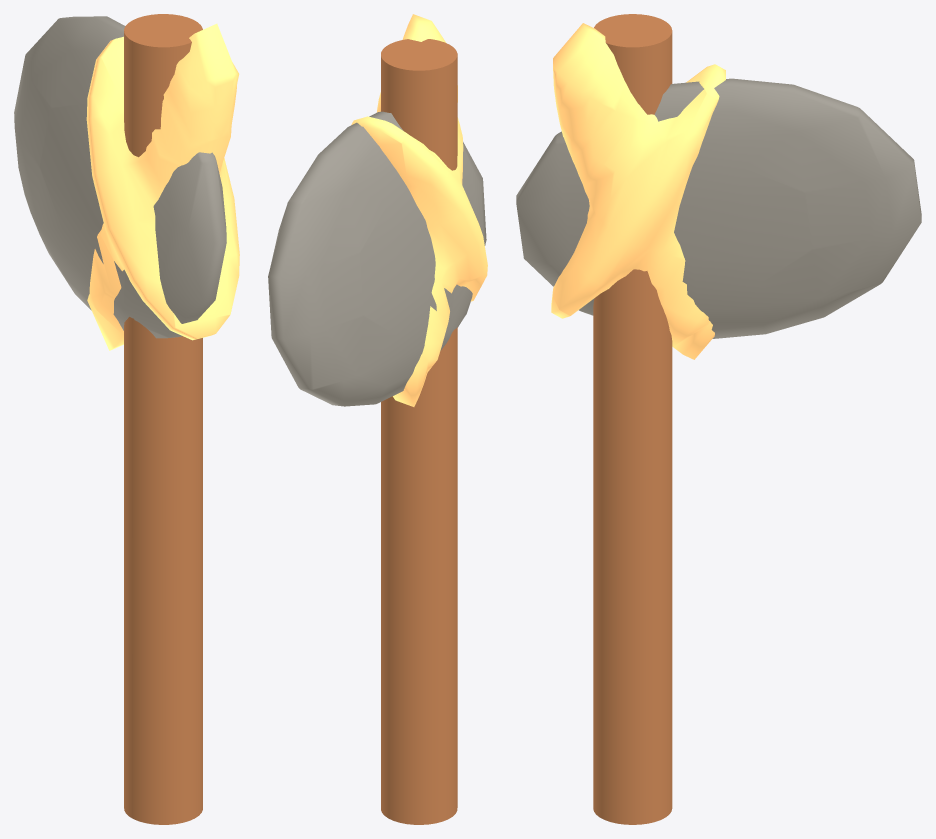
File: stone axe model MY ASSET.fbx
3 views of the same model, side by side, from view 1: azimuth 30°, elevation 25°; view 2: azimuth 150°, elevation 25°; view 3: azimuth 270°, elevation 25° (orthographic). The views are drawn at different scales.
Parts seen in each view (by area): view 1: axe handle, axe rock.001, Mball.002; view 2: axe handle, axe rock.001, Mball.002; view 3: axe rock.001, axe handle, Mball.002.
Part boxes in pixels (x1,y1,x2,y2): axe handle: (124,14,202,824); axe rock.001: (14,16,226,338); Mball.002: (86,23,239,350); axe handle: (381,39,457,824); axe rock.001: (268,111,486,406); Mball.002: (351,14,487,406); axe rock.001: (516,78,921,338); axe handle: (593,14,672,824); Mball.002: (551,23,725,359).
Size of the model in its own units: 81.44 by 496 by 229.
